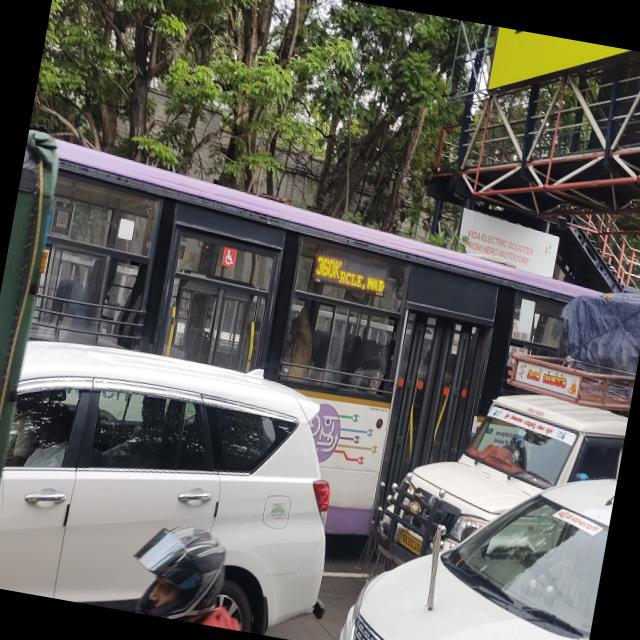bus: (0, 130, 640, 590)
display: (306, 242, 396, 302)
dnumber: (312, 252, 346, 286)
